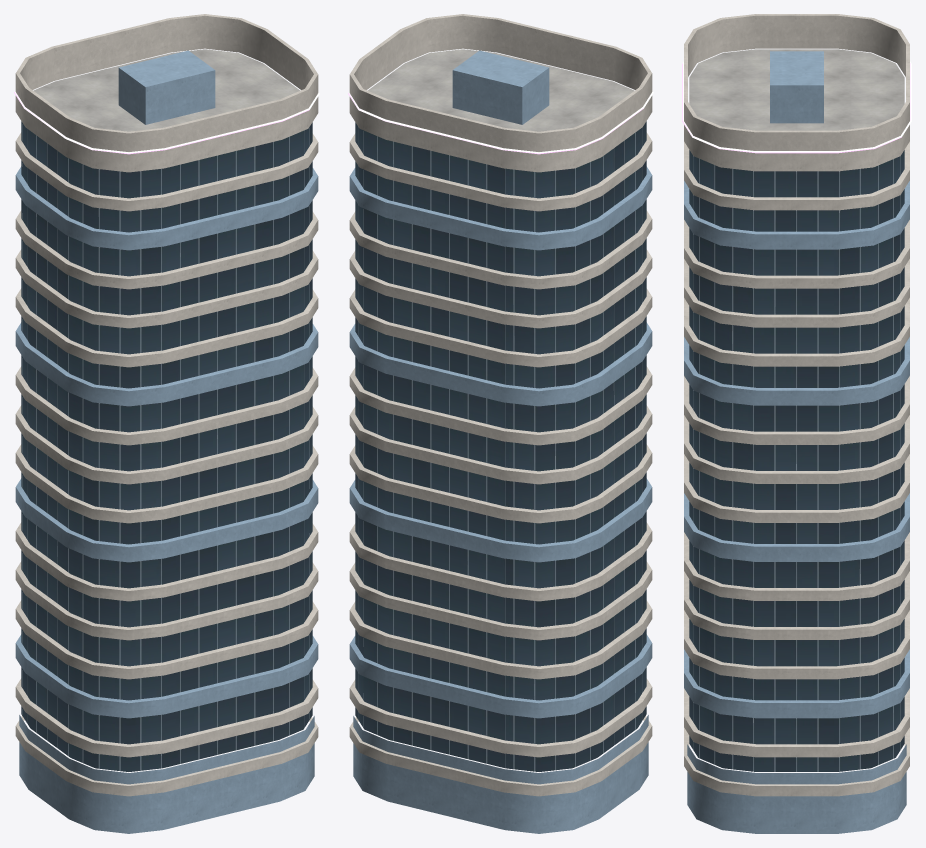
Rendered from tower_3.gltf.
3 renders of one model, left to right at view 1: azimuth 30°, elevation 25°; view 2: azimuth 150°, elevation 25°; view 3: azimuth 270°, elevation 25°, orthographic.
Visible parts, largest first — view 1: tower_3_mesh; view 2: tower_3_mesh; view 3: tower_3_mesh.
Boxes of the visible parts, bbox=[...] form: tower_3_mesh: bbox=[14, 14, 319, 833]; tower_3_mesh: bbox=[348, 14, 653, 833]; tower_3_mesh: bbox=[682, 14, 911, 833].
Size of the model in its own units: 21.06 by 58 by 17.06.
5 materials, 4 textured.
